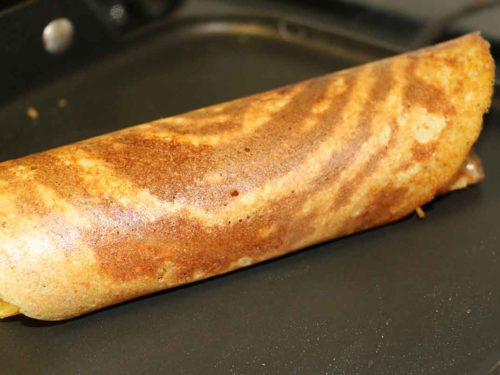dosa: (1, 29, 496, 321)
